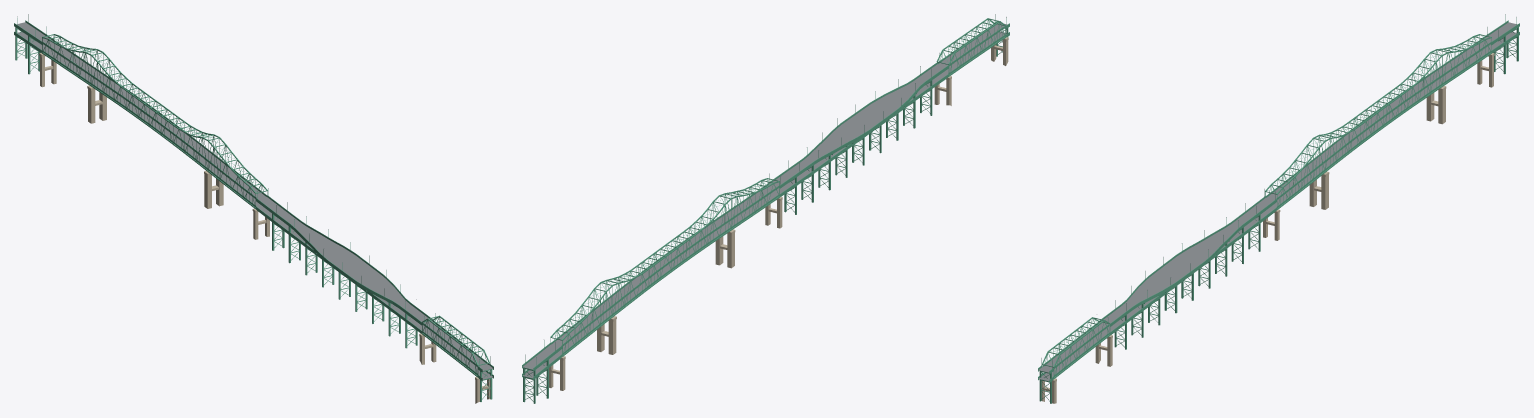
The model's file is bos-tobin-bridge.detail.glb.
3 renders of one model, left to right at view 1: azimuth 30°, elevation 25°; view 2: azimuth 150°, elevation 25°; view 3: azimuth 330°, elevation 25°, orthographic.
Parts seen in each view (by area): view 1: Maurice J. Tobin Memorial Bridge; view 2: Maurice J. Tobin Memorial Bridge; view 3: Maurice J. Tobin Memorial Bridge.
Part boxes in pixels (x1=…): Maurice J. Tobin Memorial Bridge: x1=14, y1=14, x2=493, y2=403; Maurice J. Tobin Memorial Bridge: x1=522, y1=14, x2=1009, y2=403; Maurice J. Tobin Memorial Bridge: x1=1038, y1=14, x2=1519, y2=403.
Size of the model in its own units: 33.97 by 77.28 by 976.
